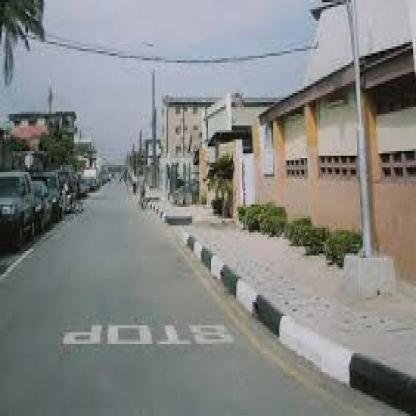car: (1, 166, 37, 249), (28, 170, 52, 239)
